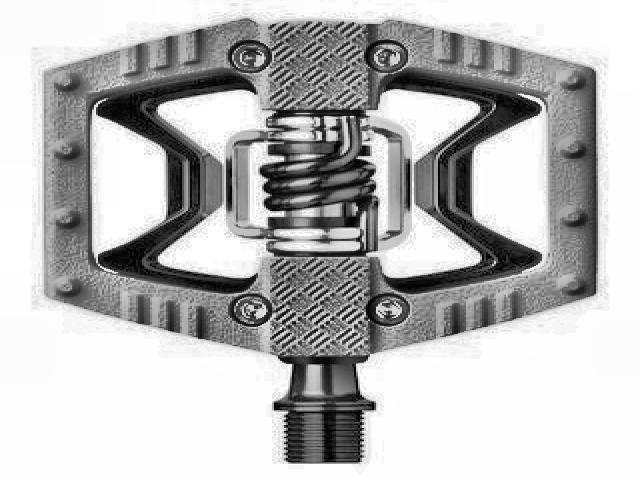pedal: (40, 15, 602, 464)
